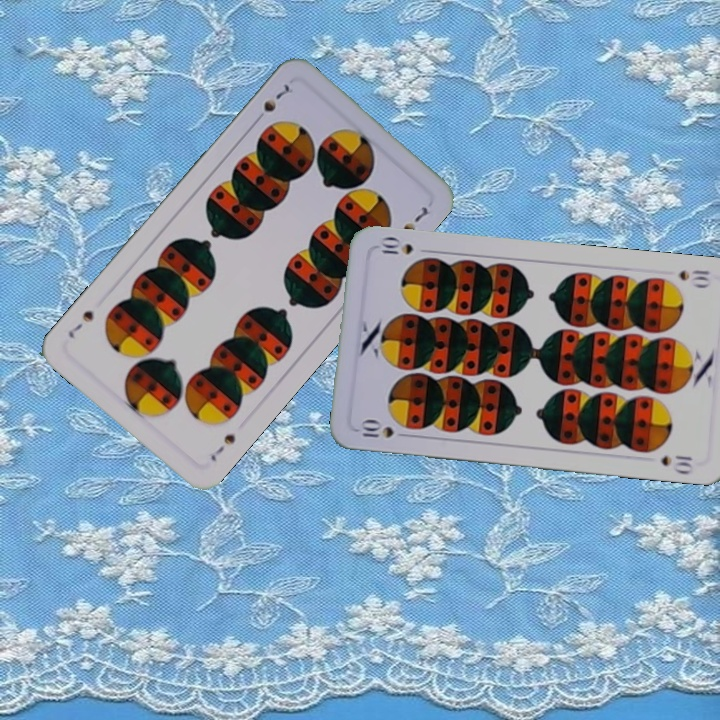S10: (675, 266, 713, 290), (356, 418, 396, 440)
S7: (250, 79, 292, 126), (206, 429, 238, 464)
